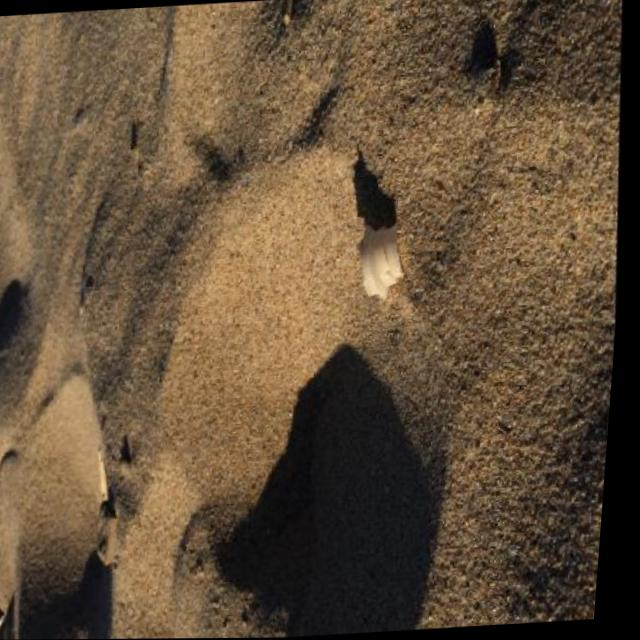plastic: (353, 217, 411, 303)
